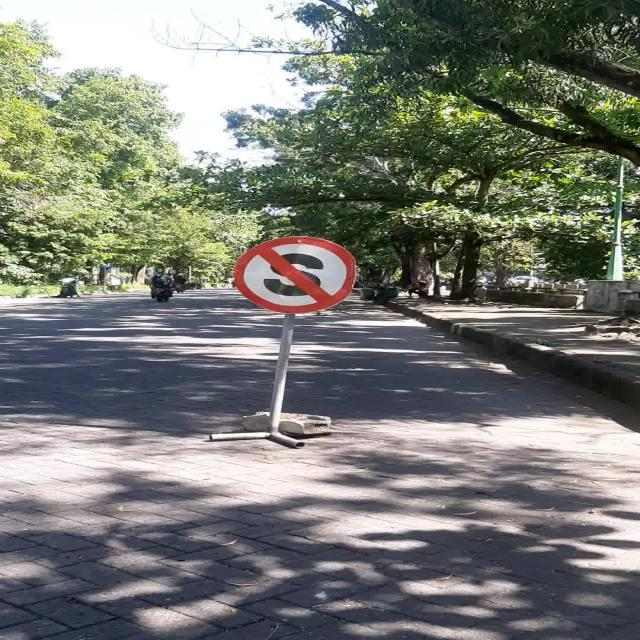Dilarang Berhenti: (234, 236, 356, 314)
